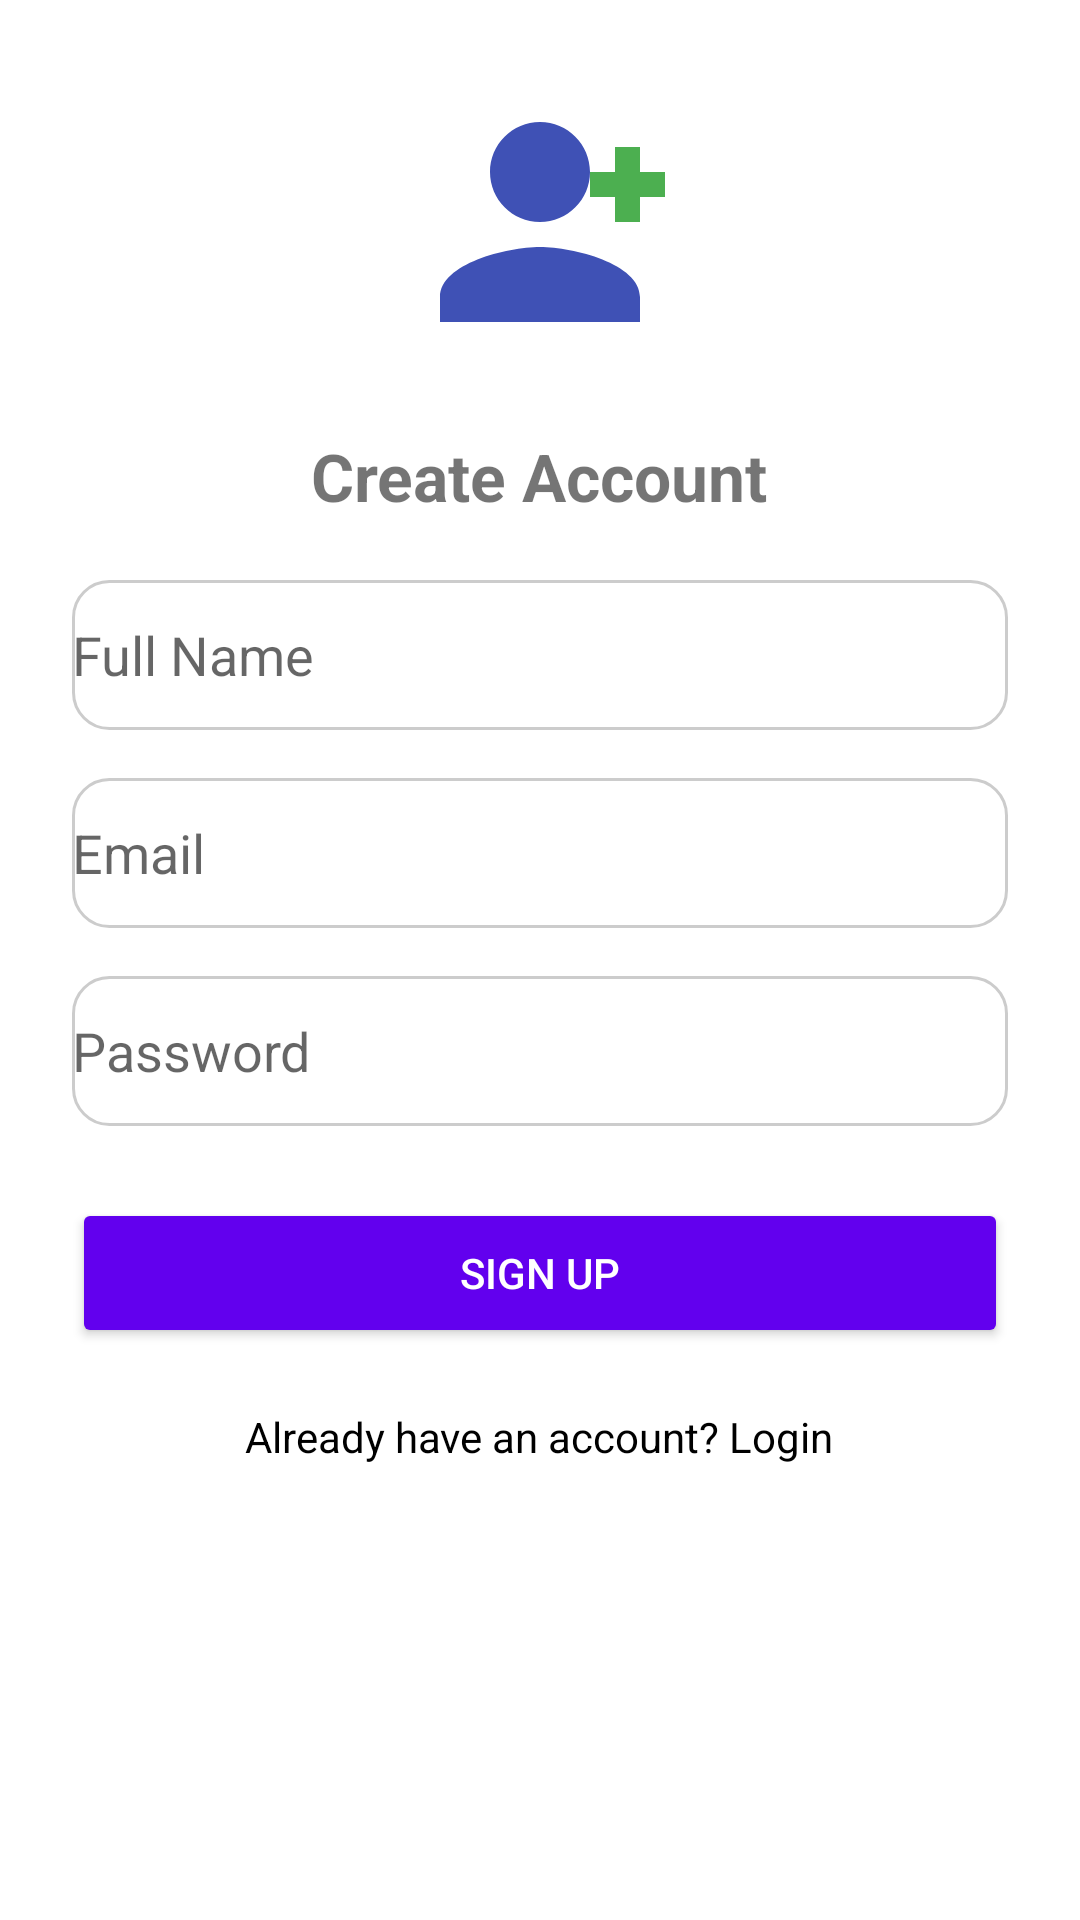

Locate icon controls on the screen. Image size 1080px x 1920px, boxes as (x1, y1, x2, y2).
Sign Up: (440, 122, 665, 322)
